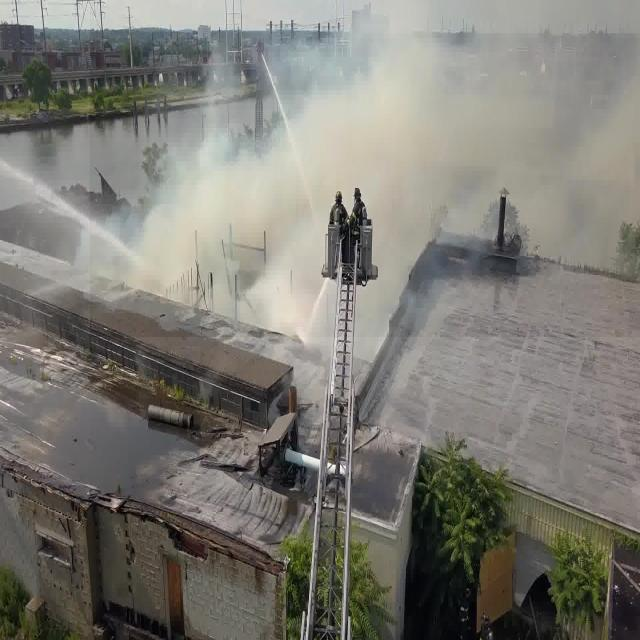Smoke: (90, 0, 640, 337)
